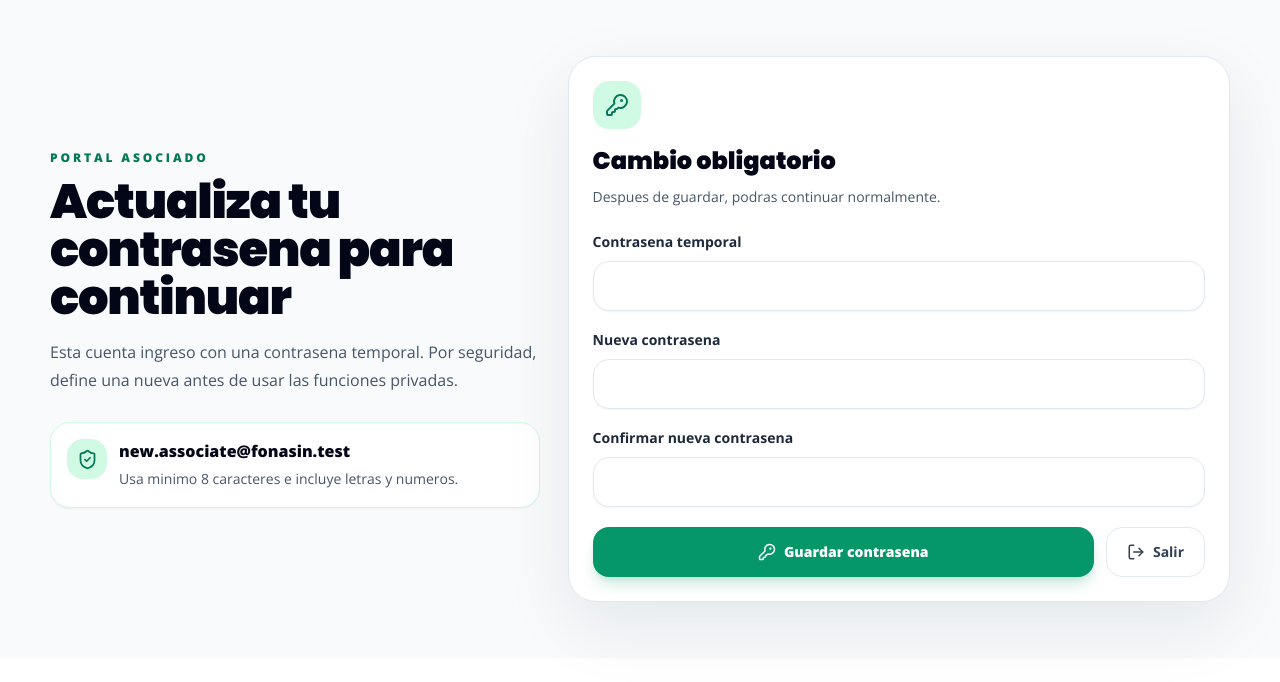
Scenario: AppRoutes › opens profile completion after the mandatory first password change
This screenshot has width=1280, height=682.
Type "Temporal123" into the password field labelled "Contrasena temporal".
click(899, 286); type("Temporal123")  # box x1=593 y1=261 x2=1205 y2=311
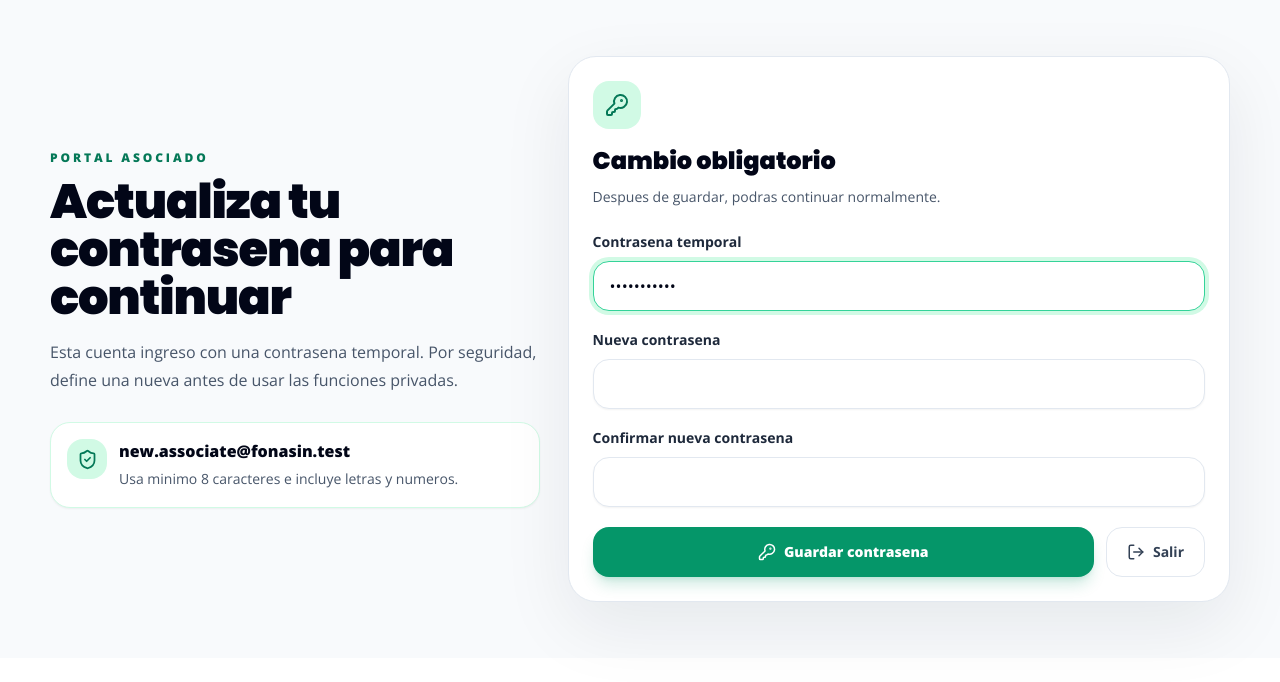
Type "NuevaClave123" into the password field labelled "Nueva contrasena".
click(899, 384); type("NuevaClave123")  # box x1=593 y1=359 x2=1205 y2=409
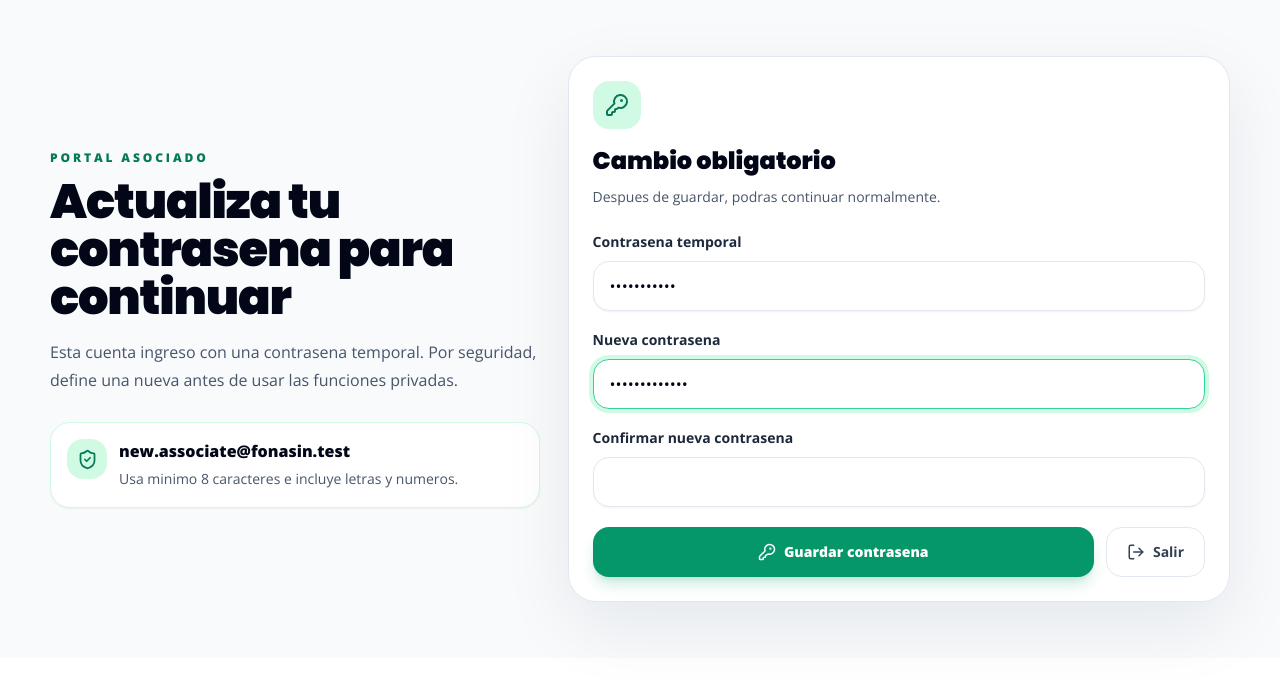
Type "NuevaClave123" into the password field labelled "Confirmar nueva contrasena".
click(899, 482); type("NuevaClave123")  # box x1=593 y1=457 x2=1205 y2=507
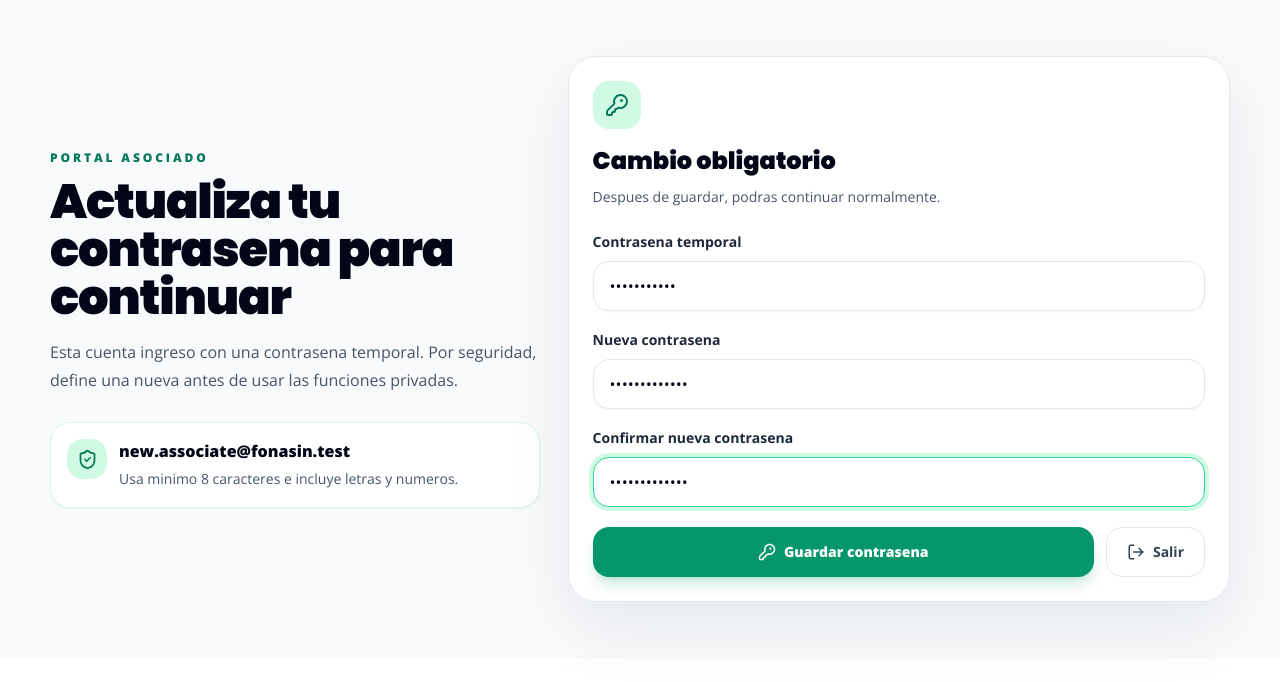
Click the button "Guardar contrasena".
click(843, 552)  # box x1=593 y1=527 x2=1094 y2=577
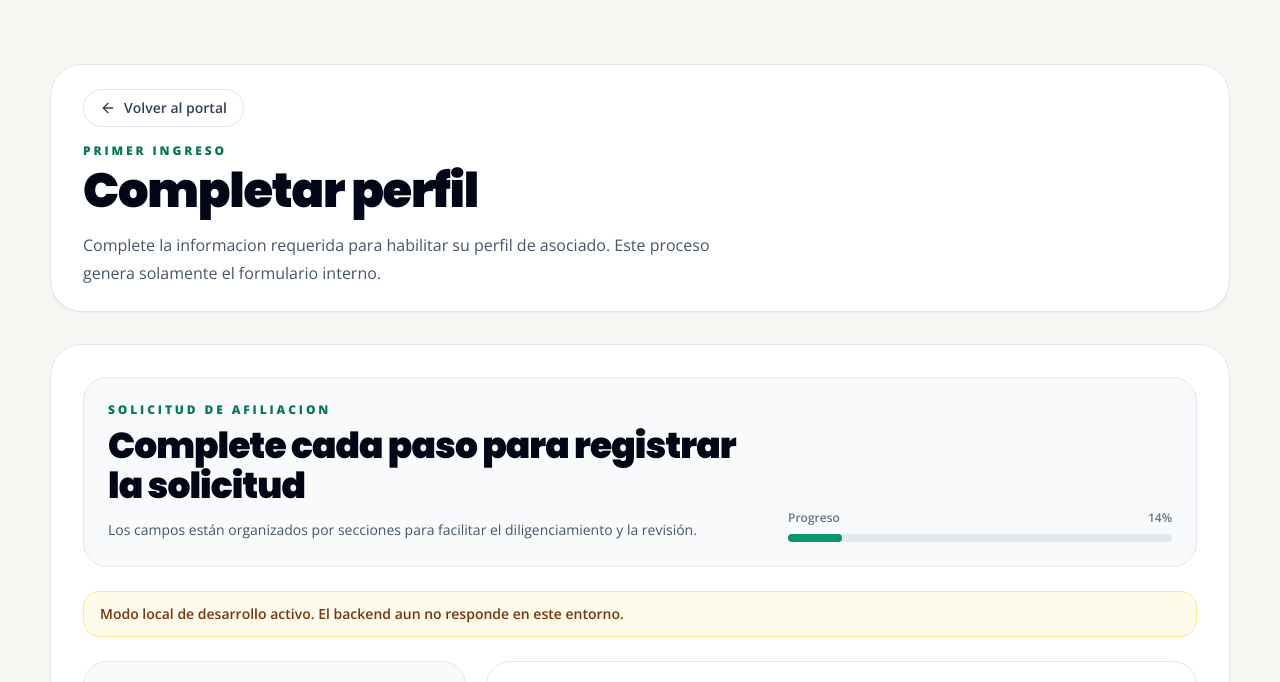
Now the heading "Completar perfil" is shown, box x1=83 y1=157 x2=478 y2=224
